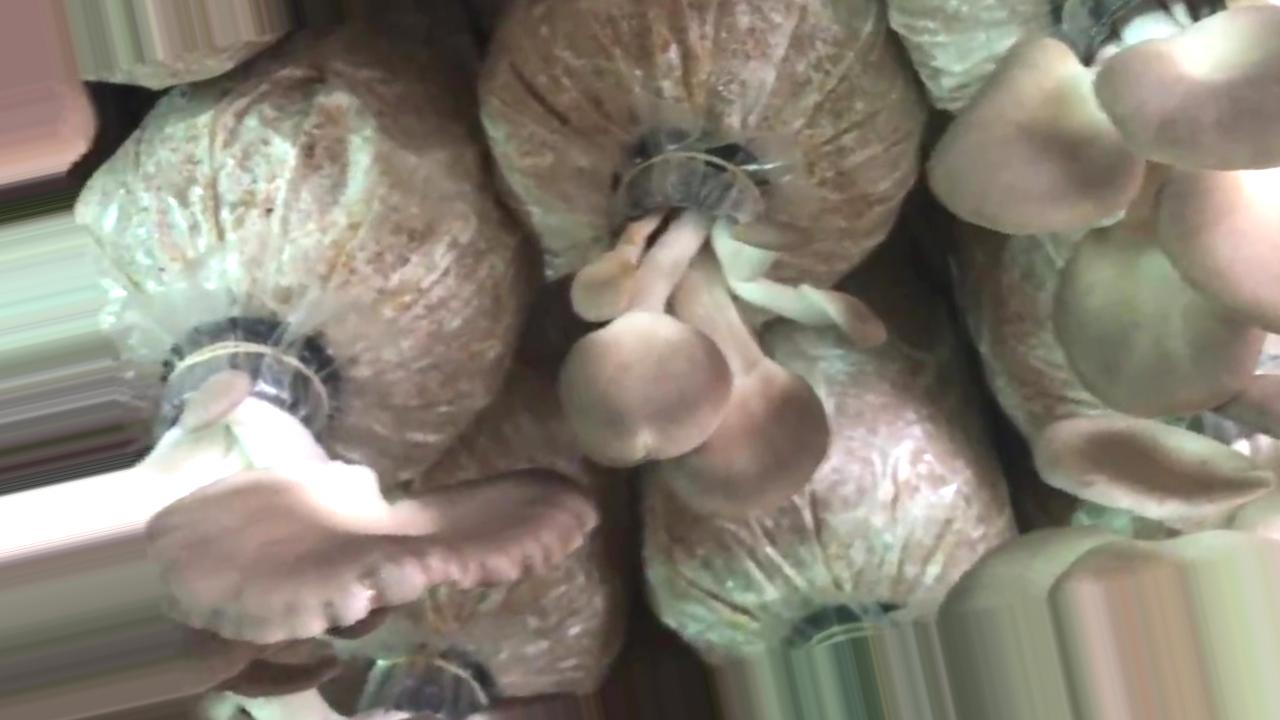nam: (918, 3, 1280, 419), (132, 331, 600, 643), (556, 132, 893, 520)
